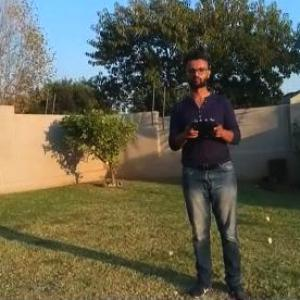follow: (165, 49, 257, 299)
